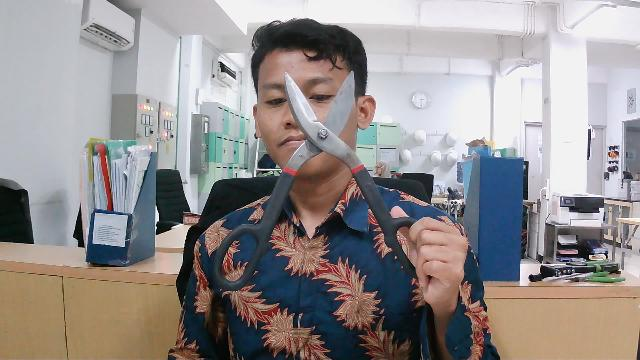gunting_plat: (197, 63, 473, 313)
